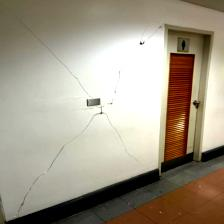High: (2, 2, 162, 213)
